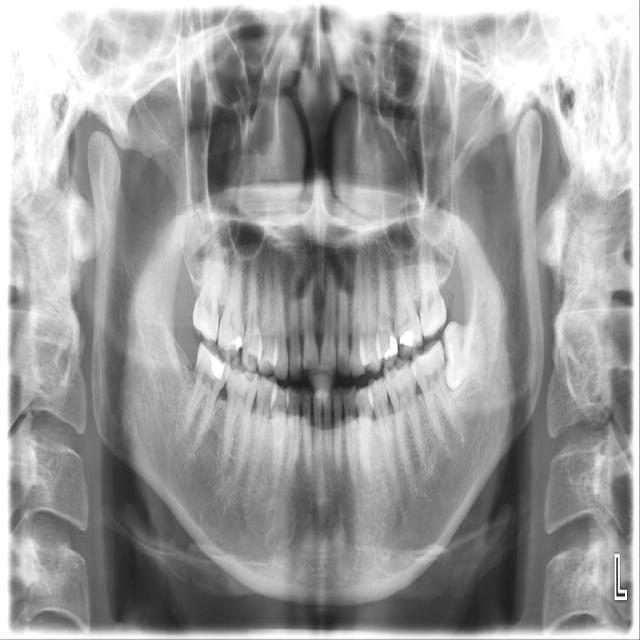Filling: (378, 334, 398, 360), (395, 328, 419, 348), (207, 356, 227, 378), (226, 332, 243, 356)
Periapical lesion: (187, 428, 222, 482), (222, 457, 236, 477)
impacted tooth: (443, 321, 493, 389)
